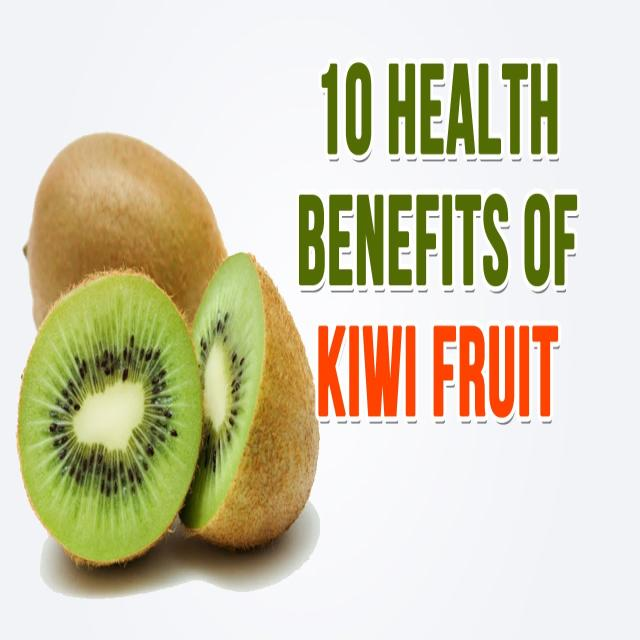kiwi: (15, 273, 196, 564), (27, 132, 228, 346), (192, 253, 318, 546)
